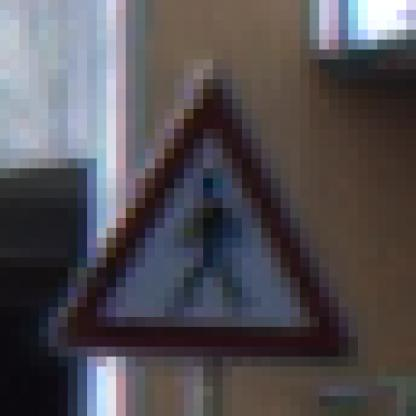crosswalk: (61, 54, 366, 378)
